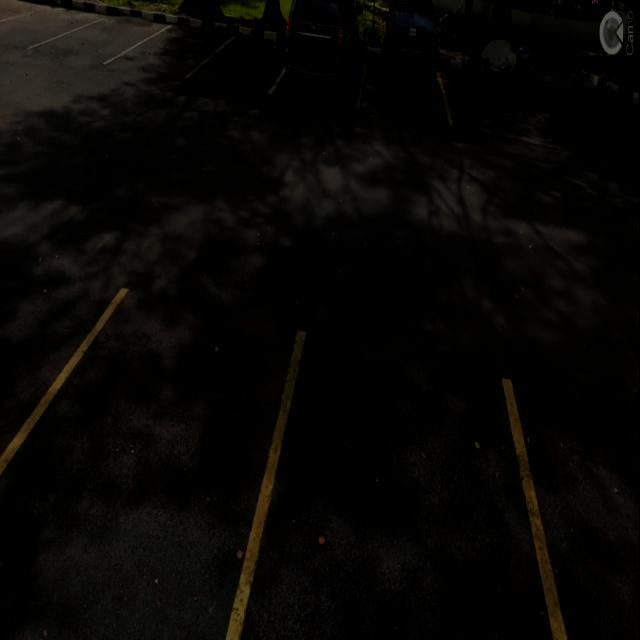empty: (6, 282, 278, 635), (262, 328, 544, 640), (204, 23, 282, 98), (132, 16, 212, 84), (53, 12, 138, 69), (0, 0, 61, 52)
occupied: (275, 6, 364, 111), (364, 15, 451, 120)
